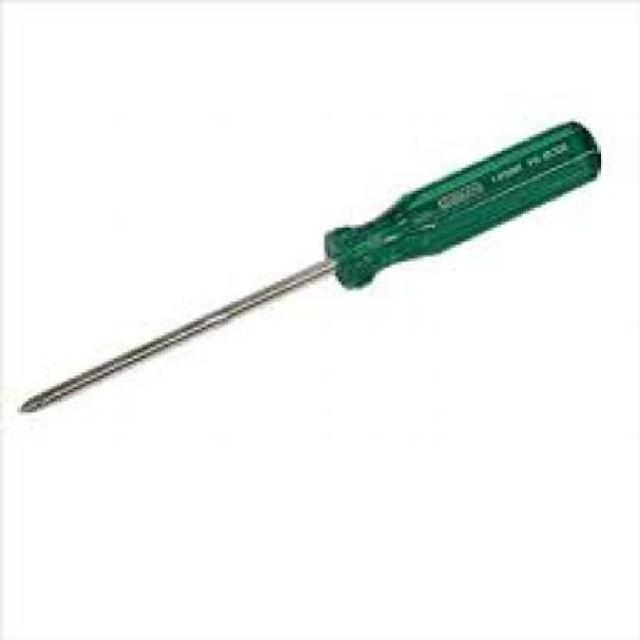screwdriver: (20, 117, 606, 416)
